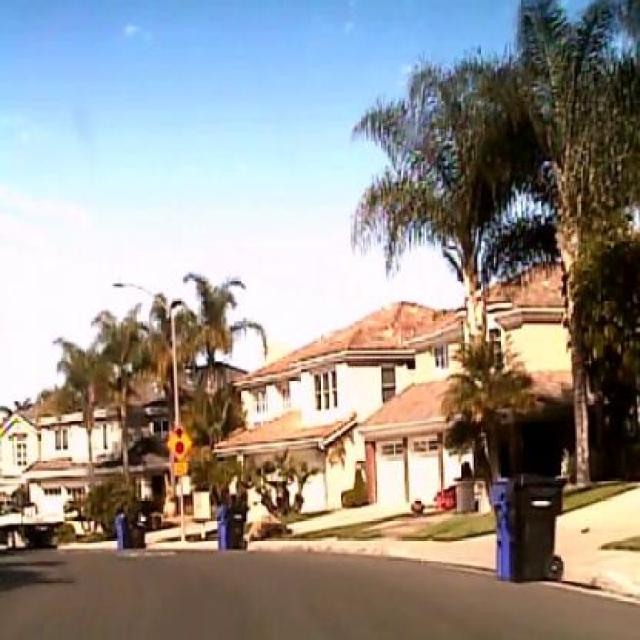stopAhead: (166, 423, 193, 462)
